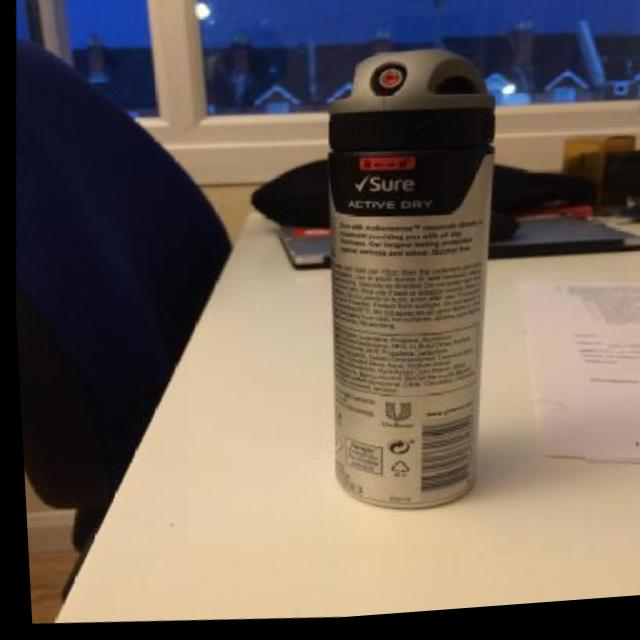metal: (299, 38, 523, 523)
